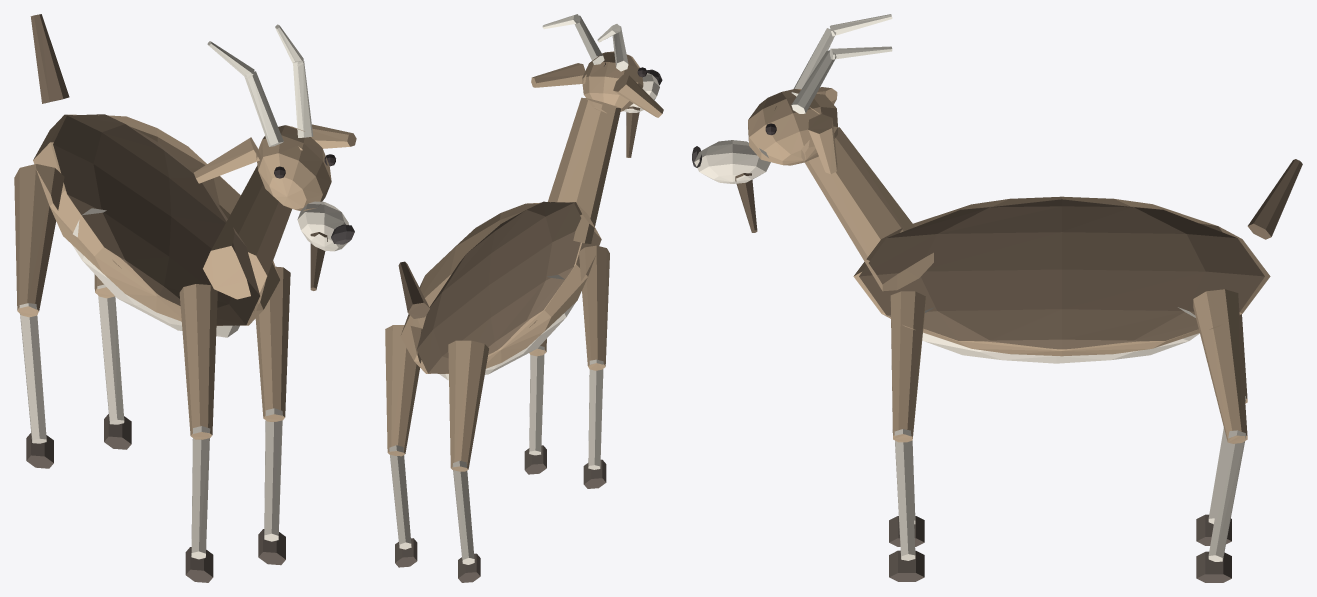
Rendered from goat.glb.
3 views of the same model, side by side, from view 1: azimuth 30°, elevation 25°; view 2: azimuth 150°, elevation 25°; view 3: azimuth 270°, elevation 25° (orthographic). The views are drawn at different scales.
Parts seen in each view (by area): view 1: Body.Stripe, Body, Head.Neck, Leg.BR, Leg.FR, Head.Skull, Leg.FL, Leg.BR.Shin, Leg.BL.Shin, Leg.FR.Shin, Leg.FL.Shin, Body.Tail (+12 smaller); view 2: Body.Stripe, Head.Neck, Body, Leg.BR, Leg.BL, Leg.FR, Head.Skull, Leg.FR.Shin, Leg.FL.Shin, Leg.BL.Shin, Leg.BR.Shin, Body.Tail (+11 smaller); view 3: Body.Stripe, Head.Neck, Leg.BL, Body, Head.Skull, Leg.FL, Head.Muzzle, Body.Belly, Leg.BL.Shin, Leg.FL.Shin, Body.Tail, Head.Ear#2 (+3 smaller).
Boxes of the visible parts, x1,y1,x2,y2 form: Body.Stripe: (53,114,259,325); Body: (33,114,280,325); Head.Neck: (203,165,291,299); Leg.BR: (14,164,64,317); Leg.FR: (179,284,217,439); Head.Skull: (256,125,331,211); Leg.FL: (255,266,290,421); Leg.BR.Shin: (19,303,46,443); Leg.BL.Shin: (97,284,124,424); Leg.FR.Shin: (191,426,210,559); Leg.FL.Shin: (264,408,282,541); Body.Tail: (30,14,69,103); Body.Stripe: (416,201,581,373); Head.Neck: (548,97,621,243); Body: (400,202,601,373); Leg.BR: (448,340,488,471); Leg.BL: (385,325,422,456); Leg.FR: (579,245,609,370); Head.Skull: (582,51,643,113); Leg.FR.Shin: (588,359,603,469); Leg.FL.Shin: (529,346,544,455); Leg.BL.Shin: (389,445,411,549); Leg.BR.Shin: (452,460,474,564); Body.Tail: (398,261,429,318); Body.Stripe: (859,199,1264,349); Head.Neck: (801,127,933,291); Leg.BL: (1193,289,1247,443); Body: (853,196,1270,356); Head.Skull: (748,89,837,165); Leg.FL: (890,291,925,442); Head.Muzzle: (694,140,770,183); Body.Belly: (922,307,1199,363); Leg.BL.Shin: (1208,430,1245,561); Leg.FL.Shin: (894,429,915,560); Body.Tail: (1247,159,1302,239); Head.Ear#2: (808,114,837,174).
Size of the model in its own units: 0.328 by 1.07 by 1.11.
